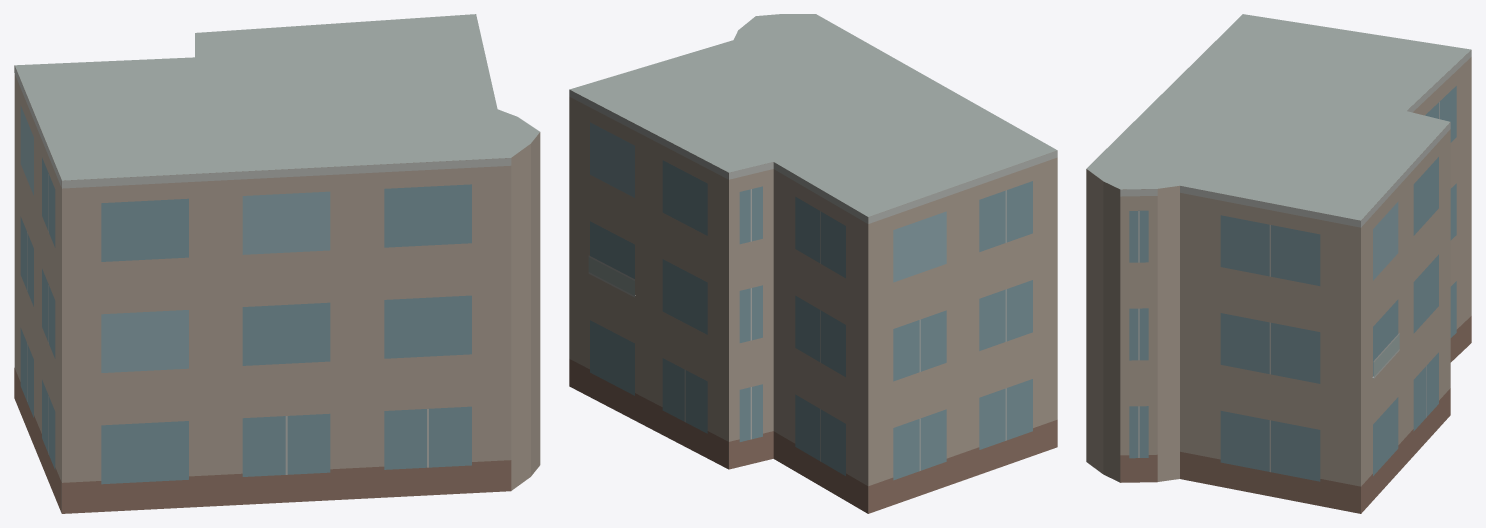
The model's file is survey-upis-32479171.glb.
3 views of the same model, side by side, from view 1: azimuth 30°, elevation 25°; view 2: azimuth 150°, elevation 25°; view 3: azimuth 270°, elevation 25° (orthographic). The views are drawn at different scales.
Visible parts, largest first — view 1: survey-upis-32479171.tmp; view 2: survey-upis-32479171.tmp; view 3: survey-upis-32479171.tmp.
Part boxes in pixels (x1=…): survey-upis-32479171.tmp: x1=14, y1=14, x2=540, y2=513; survey-upis-32479171.tmp: x1=569, y1=14, x2=1057, y2=513; survey-upis-32479171.tmp: x1=1086, y1=14, x2=1471, y2=513.
Size of the model in its own units: 15.42 by 10.2 by 12.16.
